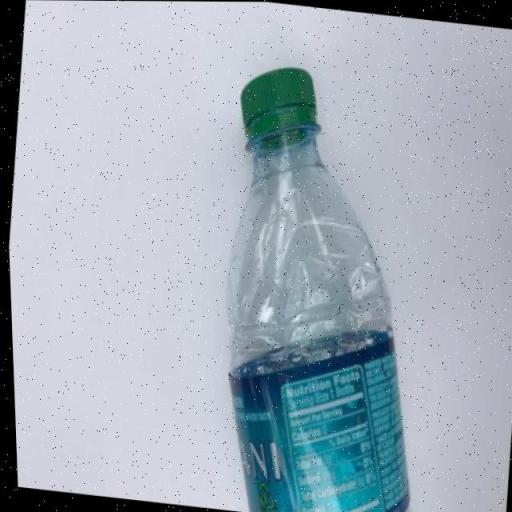plastic: (196, 59, 464, 512)
